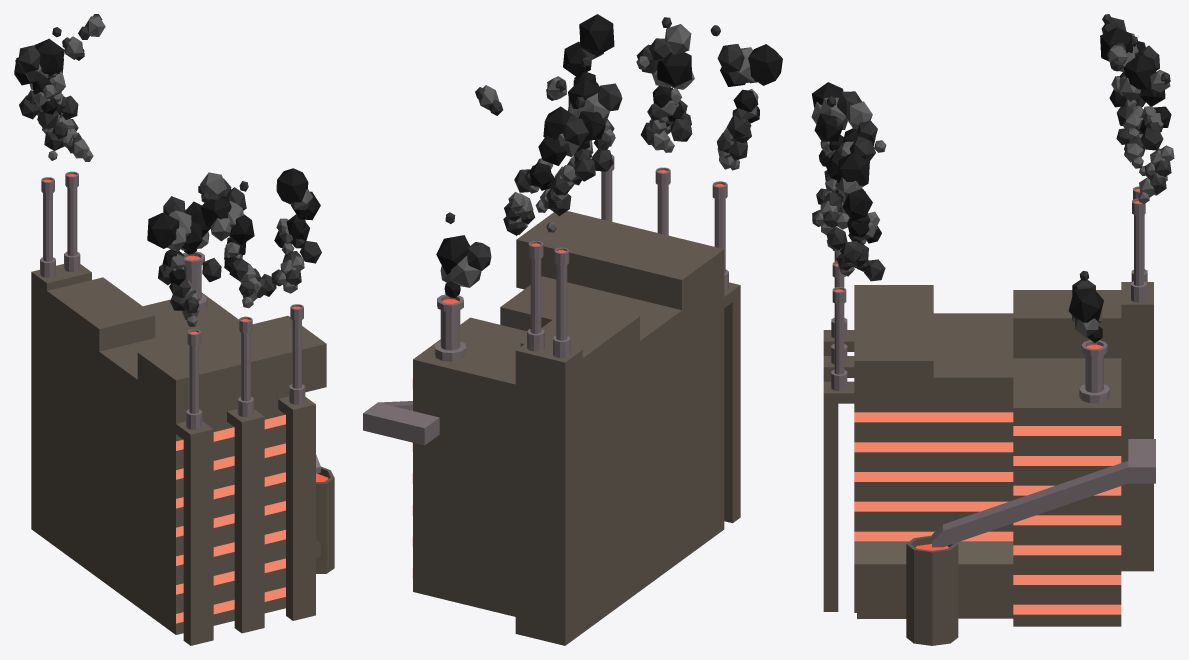
The model's file is Copper_Refinery.glb.
The picture shows the model from 3 angles, left to right: view 1: azimuth 30°, elevation 25°; view 2: azimuth 150°, elevation 25°; view 3: azimuth 270°, elevation 25°; orthographic projection. The views are drawn at different scales.
Visible parts, largest first — view 1: Cube.001, Cube.015, Cube.011, Cube.016, Refinery (scaled and at origin), Cube.014, Cube.012, Plane.002, Cylinder.008, Cylinder.005, Cylinder.002, Cylinder.004 (+10 smaller); view 2: Cube.011, Cube.012, Refinery (scaled and at origin), Cube.016, Cube.015, Cube.014, Cube.001, Cube.006, Cylinder.007, Cylinder.005, Cylinder.003, Icosphere.126 (+11 smaller); view 3: Cube.011, Refinery (scaled and at origin), Cube.016, Cube.017, Cube.012, Plane, Plane.001, Cube.015, Cube.006, Cube.014, Cylinder.008, Cube.001 (+9 smaller).
Part boxes in pixels (x1,y1,x2,y2): Cube.001: [176, 396, 315, 645]; Cube.015: [137, 396, 285, 634]; Cube.011: [47, 292, 238, 578]; Cube.016: [137, 315, 326, 423]; Refinery (scaled and at origin): [99, 321, 235, 606]; Cube.014: [47, 277, 155, 367]; Cube.012: [31, 264, 91, 540]; Plane.002: [176, 414, 285, 623]; Cylinder.008: [316, 466, 334, 573]; Cylinder.005: [64, 171, 80, 272]; Cylinder.002: [289, 304, 305, 404]; Cylinder.004: [237, 316, 253, 417]; Cube.011: [413, 317, 639, 632]; Cube.012: [515, 341, 582, 645]; Refinery (scaled and at origin): [500, 276, 681, 590]; Cube.016: [516, 211, 724, 327]; Cube.015: [682, 297, 724, 559]; Cube.014: [520, 301, 639, 400]; Cube.001: [724, 282, 740, 523]; Cube.006: [363, 401, 439, 445]; Cylinder.007: [434, 294, 466, 361]; Cylinder.005: [527, 241, 544, 351]; Cylinder.003: [553, 247, 570, 358]; Icosphere.126: [579, 14, 614, 56]; Cube.011: [1013, 358, 1121, 626]; Refinery (scaled and at origin): [933, 313, 1013, 531]; Cube.016: [854, 285, 933, 405]; Cube.017: [854, 541, 1013, 618]; Cube.012: [1121, 282, 1153, 571]; Plane: [854, 412, 1013, 541]; Plane.001: [1013, 426, 1121, 614]; Cube.015: [854, 406, 933, 612]; Cube.006: [932, 439, 1155, 547]; Cube.014: [1013, 290, 1121, 358]; Cylinder.008: [906, 535, 958, 645]; Cube.001: [823, 330, 854, 611].
Size of the model in its own units: 0.7573 by 1.62 by 0.9944.
